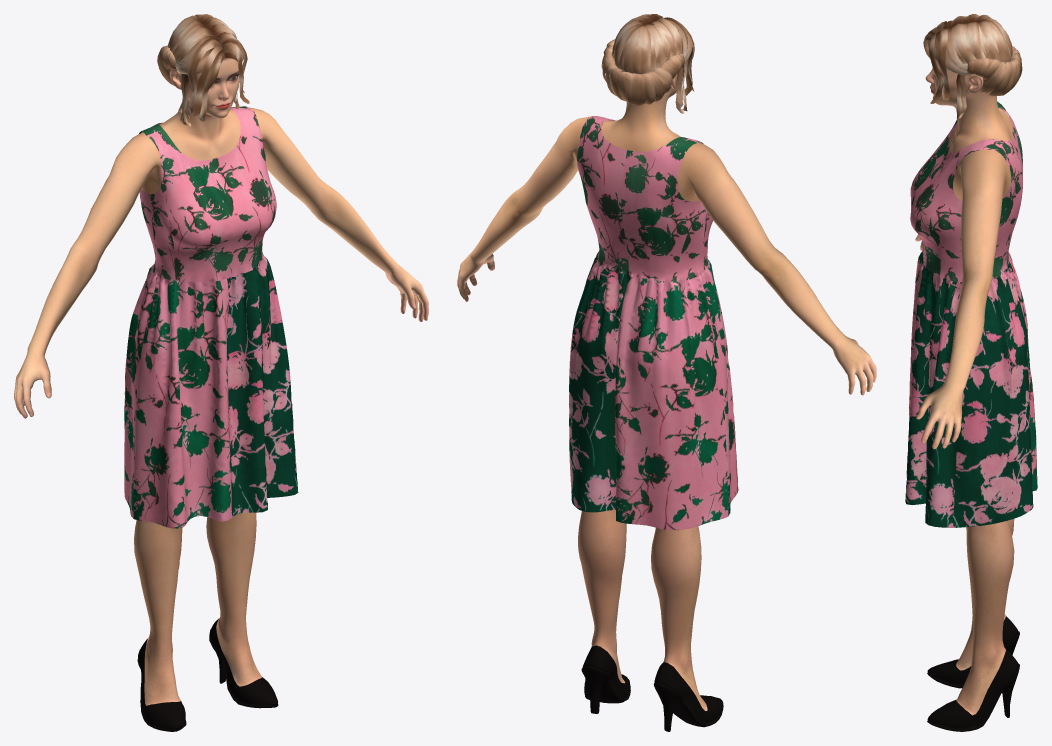
3 renders of one model, left to right at view 1: azimuth 30°, elevation 25°; view 2: azimuth 150°, elevation 25°; view 3: azimuth 270°, elevation 25°, orthographic.
Visible parts, largest first — view 1: Body, Mesh_2, Mesh_Bottom; view 2: Body, Mesh_2, Mesh_Bottom; view 3: Body, Mesh_2, Mesh_Bottom.
Part boxes in pixels (left/top/right/bottom): Body: left=14, top=14, right=428, bottom=731; Mesh_2: left=124, top=255, right=298, bottom=528; Mesh_Bottom: left=139, top=106, right=276, bottom=281; Body: left=457, top=14, right=876, bottom=731; Mesh_2: left=569, top=251, right=738, bottom=530; Mesh_Bottom: left=577, top=116, right=712, bottom=281; Body: left=915, top=14, right=1022, bottom=731; Mesh_2: left=905, top=251, right=1037, bottom=527; Mesh_Bottom: left=910, top=101, right=1022, bottom=281.
Size of the model in its own units: 1.61 by 2.59 by 0.4539.
Materials: 3 (3 with a texture image).
